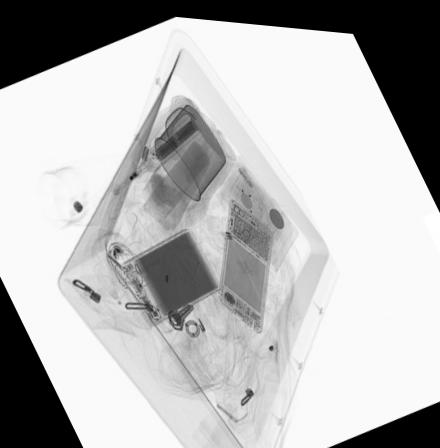Powerbank: (116, 223, 221, 327)
